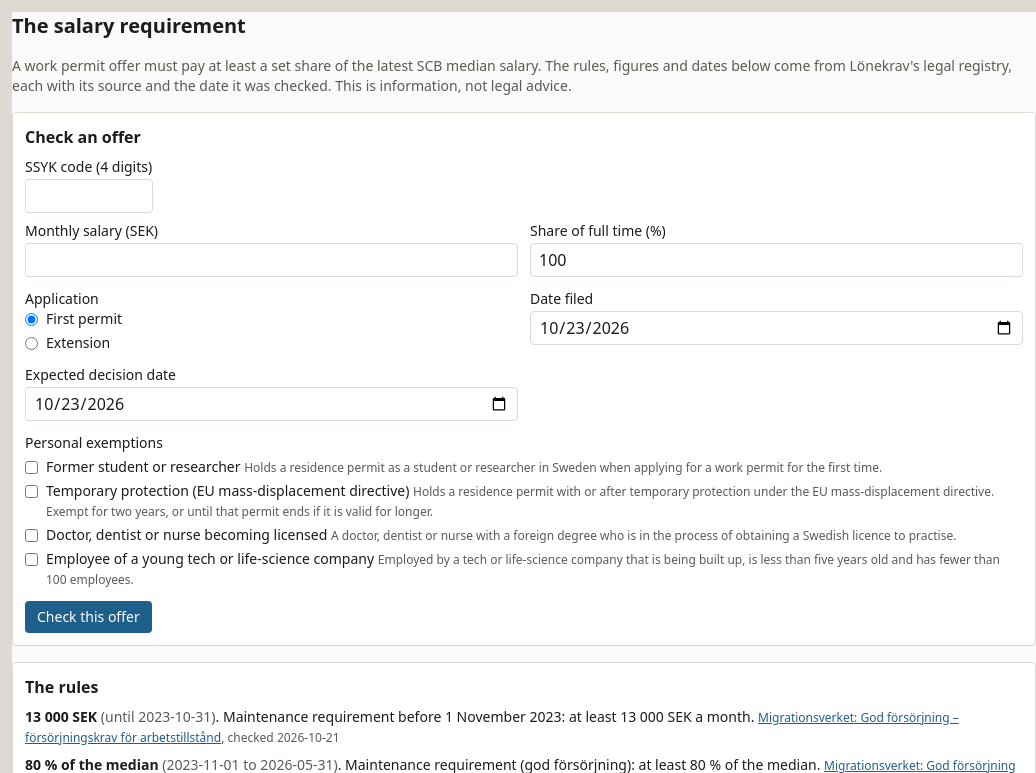
Test: LegalView › shows any warning the API gives, such as a stale median
Type "2512" into the field labelled "SSYK code (4 digits)".
click(89, 196); type("2512")  # box [25, 179, 153, 213]
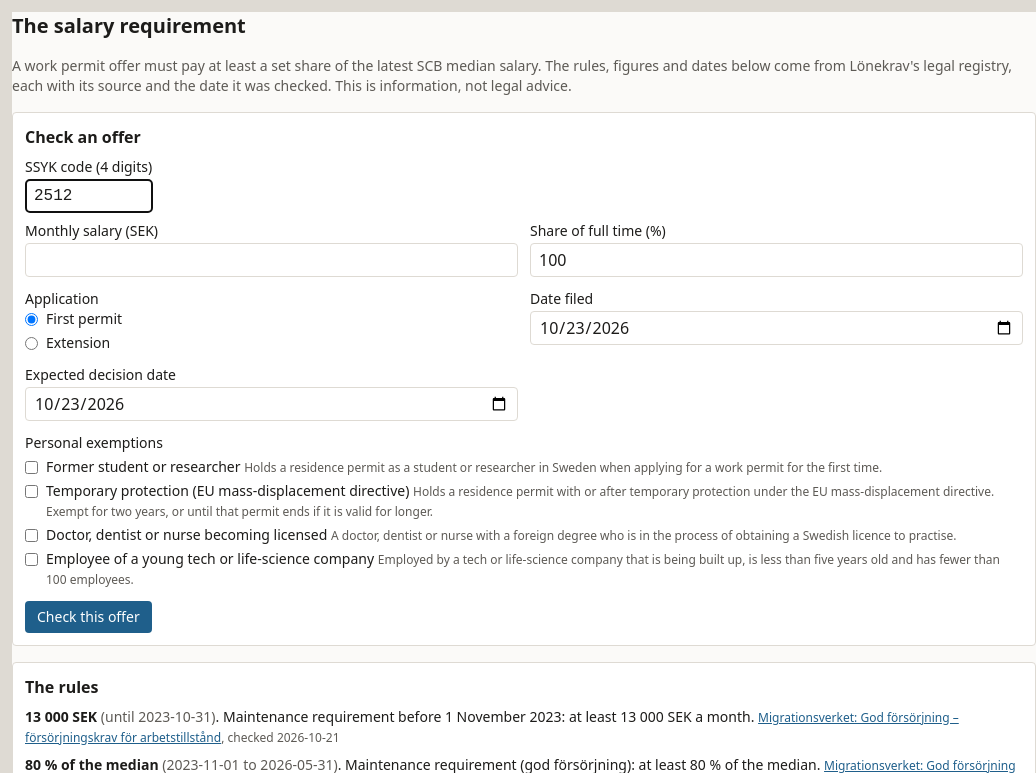
Click the button "Check this offer".
click(88, 617)  # box [25, 601, 152, 633]
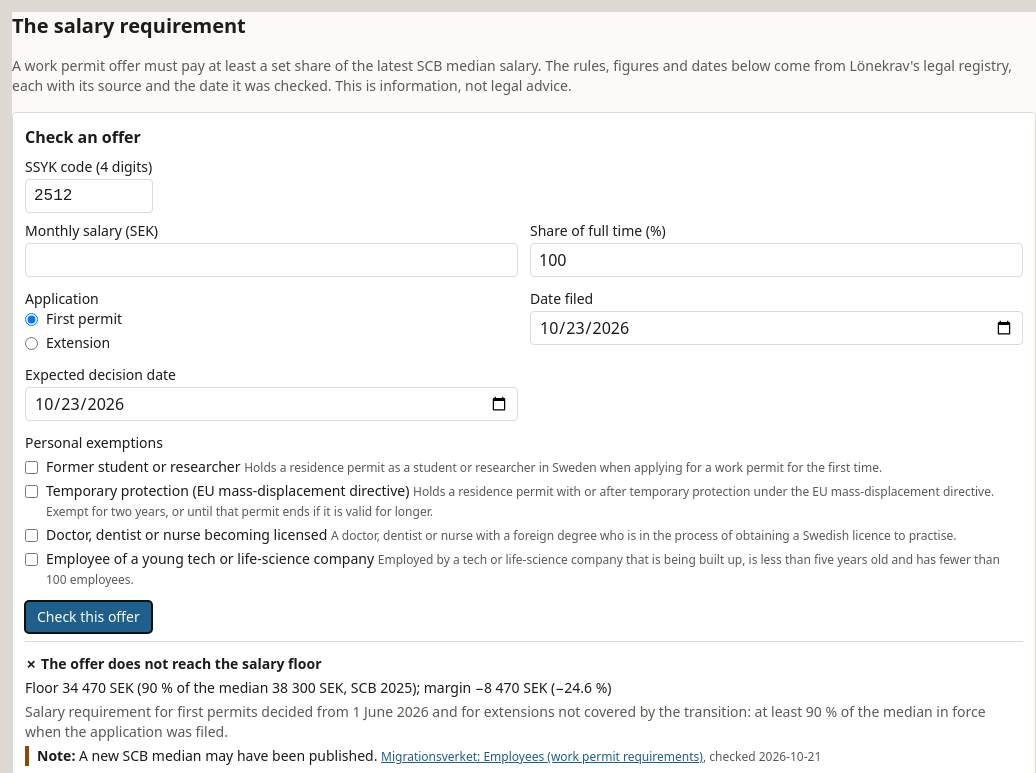
Expected: the text "A new SCB median may have been published" is shown, [79, 746, 377, 765]
